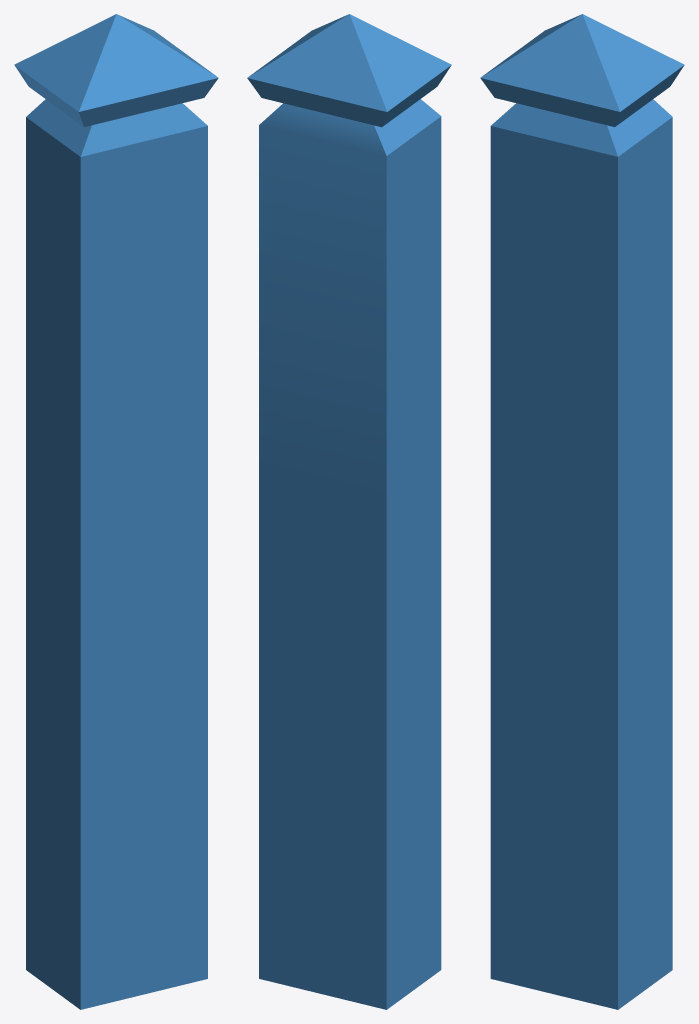
Rendered from Deco_Fence_Column_C.fbx.
3 views of the same model, side by side, from view 1: azimuth 30°, elevation 25°; view 2: azimuth 150°, elevation 25°; view 3: azimuth 330°, elevation 25° (orthographic).
Parts seen in each view (by area): view 1: Deco_Fence_Column_C; view 2: Deco_Fence_Column_C; view 3: Deco_Fence_Column_C.
Part boxes in pixels (<box>): Deco_Fence_Column_C: <box>14,14,218,1009</box>; Deco_Fence_Column_C: <box>247,14,451,1009</box>; Deco_Fence_Column_C: <box>480,14,684,1009</box>.
Bounding box in the file's own units: 65.97 × 432 × 52.71.
